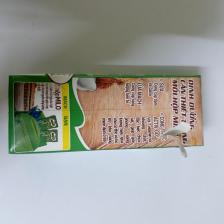Juice Box: (4, 66, 208, 167)
